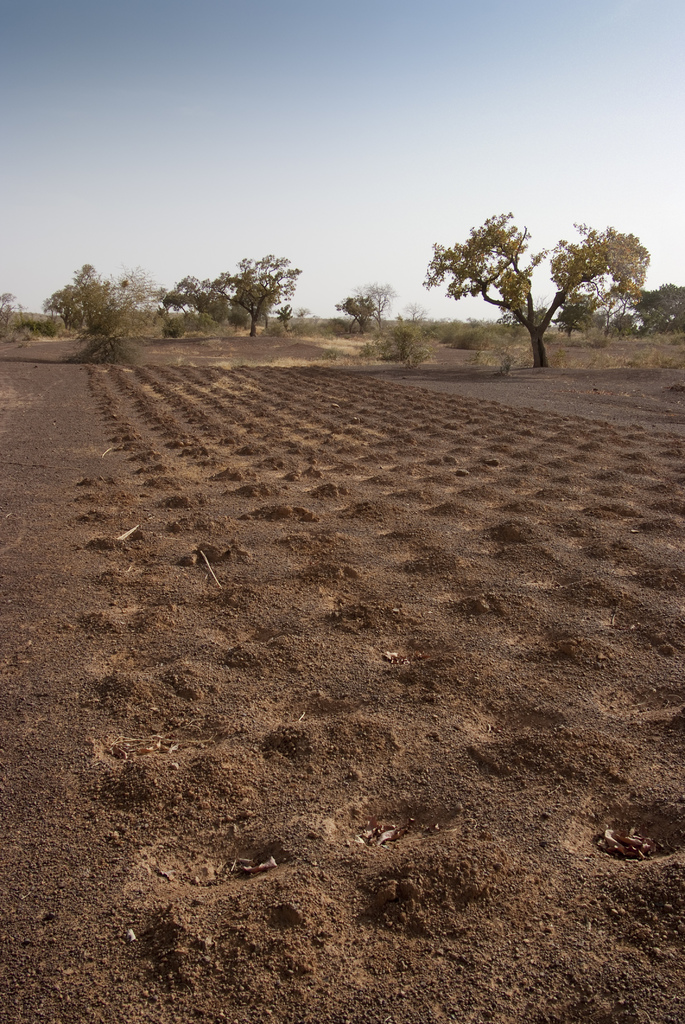Tree: (0, 212, 684, 367)
